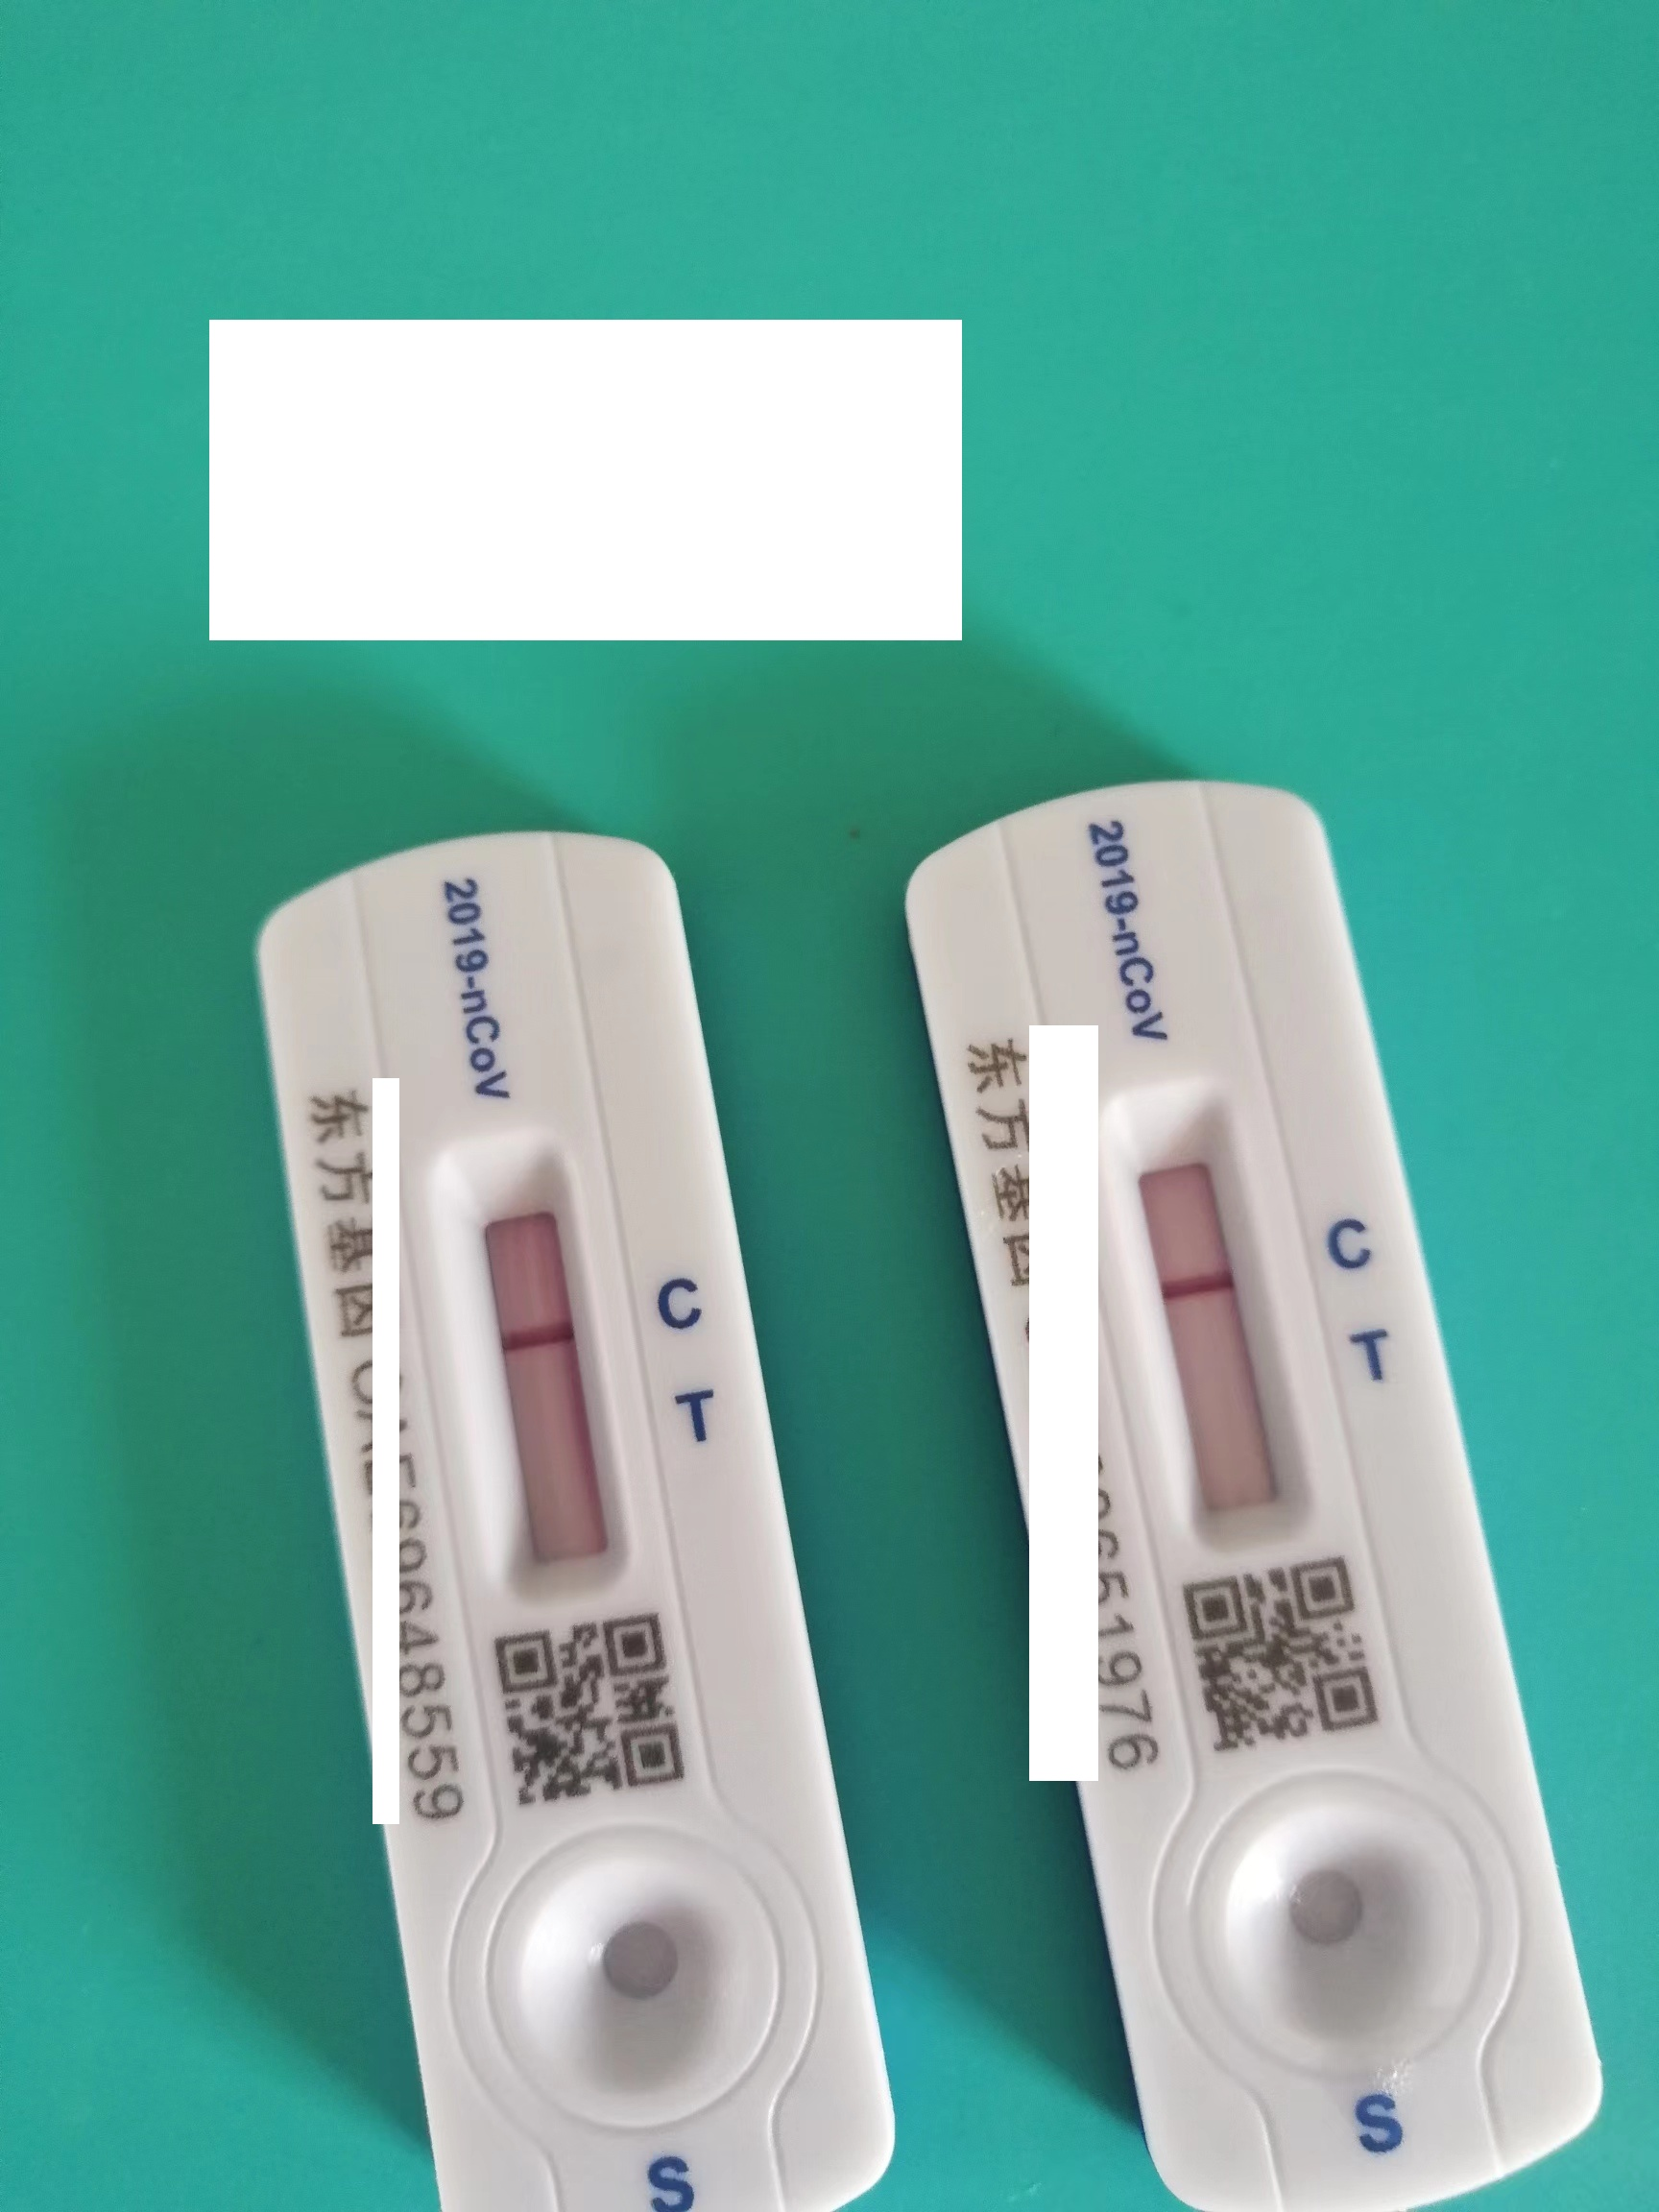negative: (1114, 1104, 1291, 1561), (451, 1160, 629, 1616)
